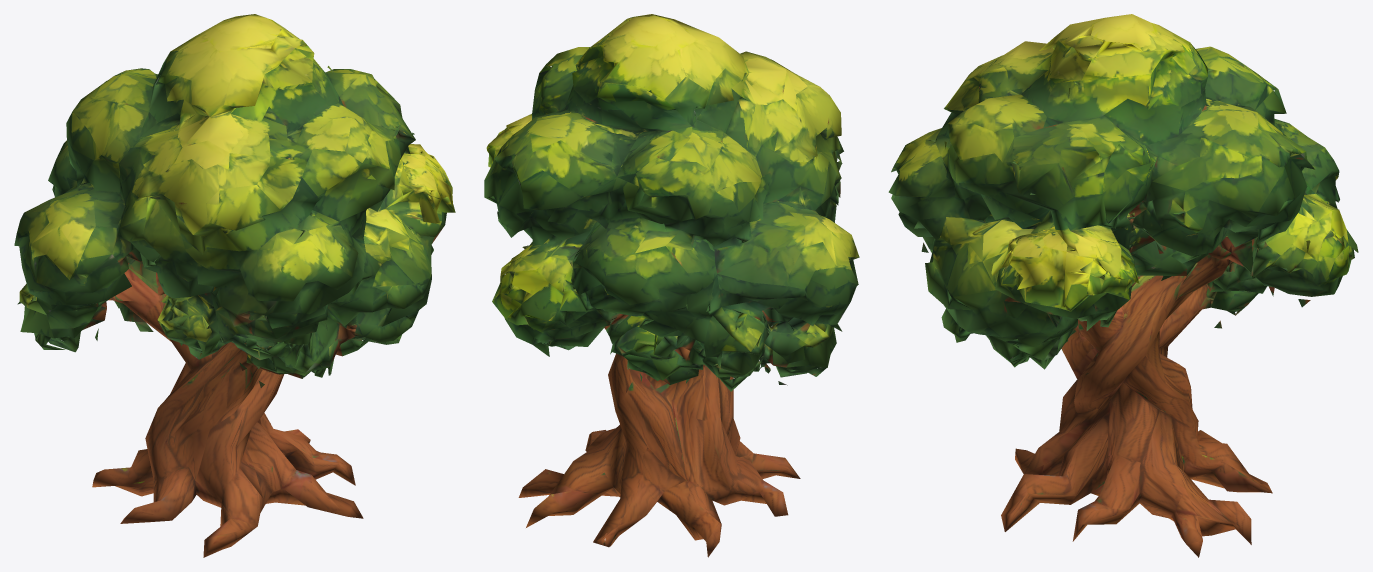
File: tree_round_v.glb
The picture shows the model from 3 angles, left to right: view 1: azimuth 30°, elevation 25°; view 2: azimuth 150°, elevation 25°; view 3: azimuth 270°, elevation 25°; orthographic projection. The views are drawn at different scales.
Visible parts, largest first — view 1: Body; view 2: Body; view 3: Body.
Boxes of the visible parts, left/top/right/bottom form: Body: left=14, top=14, right=455, bottom=557; Body: left=484, top=14, right=859, bottom=557; Body: left=888, top=14, right=1358, bottom=557.
Size of the model in its own units: 3.9 by 4.61 by 3.98.
Materials: 1 (1 with a texture image).
